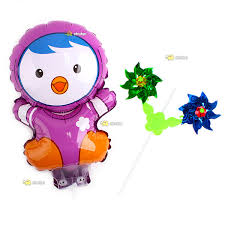Petty: (9, 19, 119, 190)
